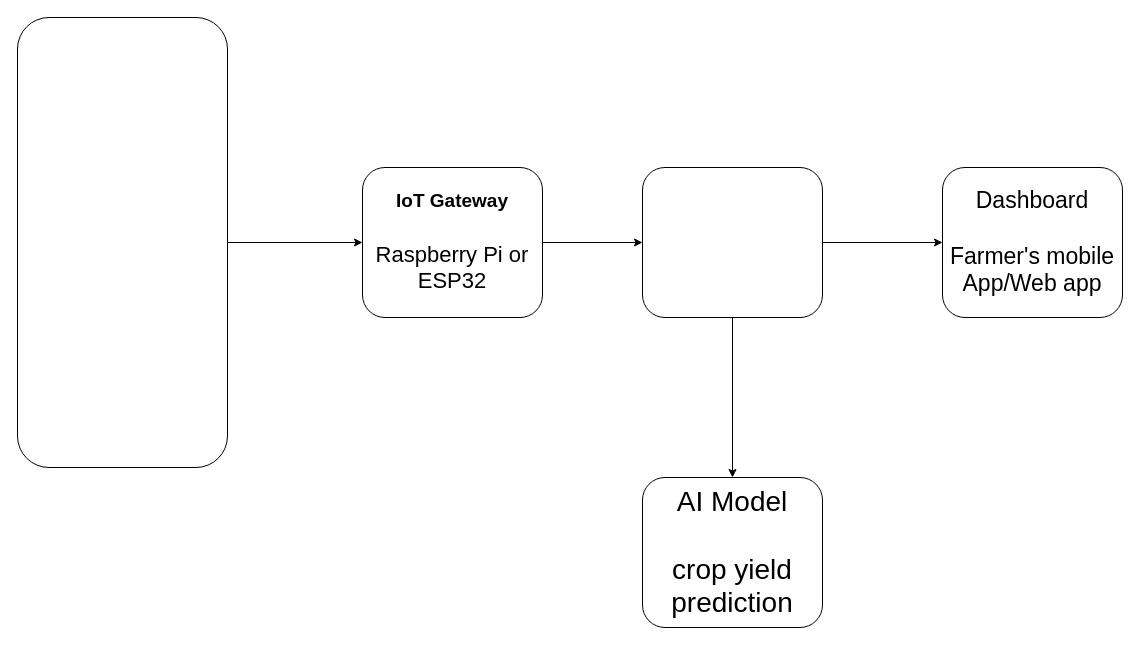
The diagram is 1140 pixels wide and 645 high, and some of its shapes have lost their labels. The centre of each missing label's shape, as x and y in pixels:
Cloud/Edge Server data storage & preprocessing: (x=732, y=242)
Sensors soil moisture temperature humidity PH rainfall pH: (x=122, y=242)
